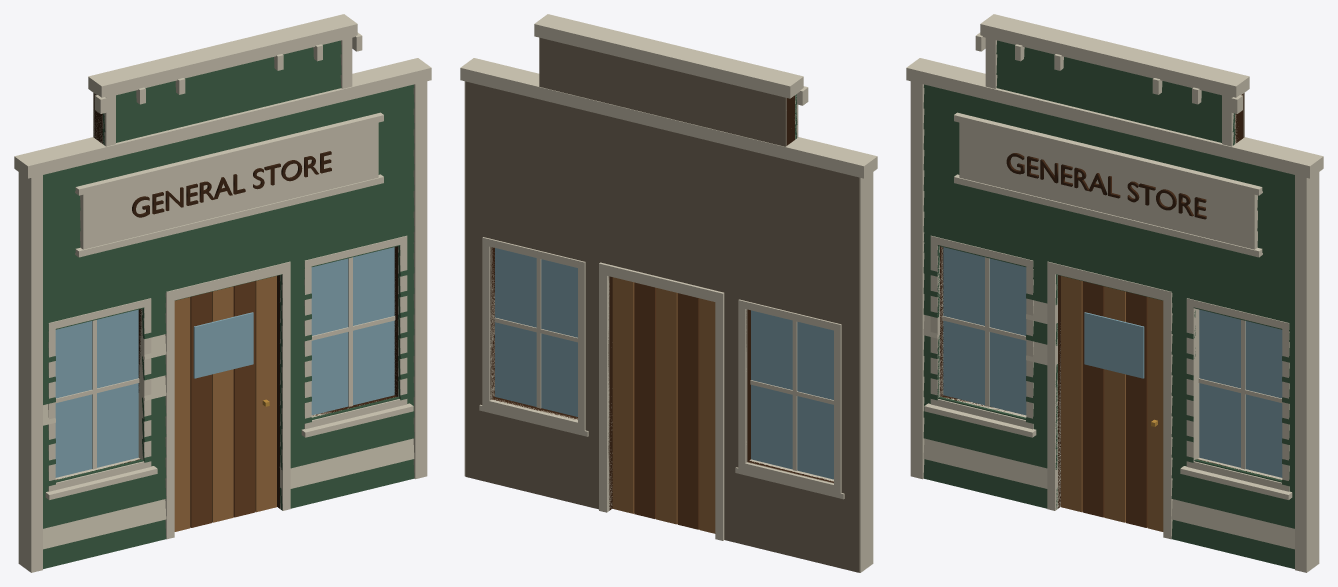
Rendered from SM_Facade_General_Store.obj.
3 renders of one model, left to right at view 1: azimuth 30°, elevation 25°; view 2: azimuth 150°, elevation 25°; view 3: azimuth 330°, elevation 25°, orthographic.
Visible parts, largest first — view 1: SM_Facade_General_Store; view 2: SM_Facade_General_Store; view 3: SM_Facade_General_Store.
Boxes of the visible parts, box(x1,y1,x2,y2) form: SM_Facade_General_Store: box(14, 14, 431, 572); SM_Facade_General_Store: box(460, 14, 877, 572); SM_Facade_General_Store: box(906, 14, 1323, 572).
Size of the model in its own units: 4.1 by 4.56 by 0.305.
